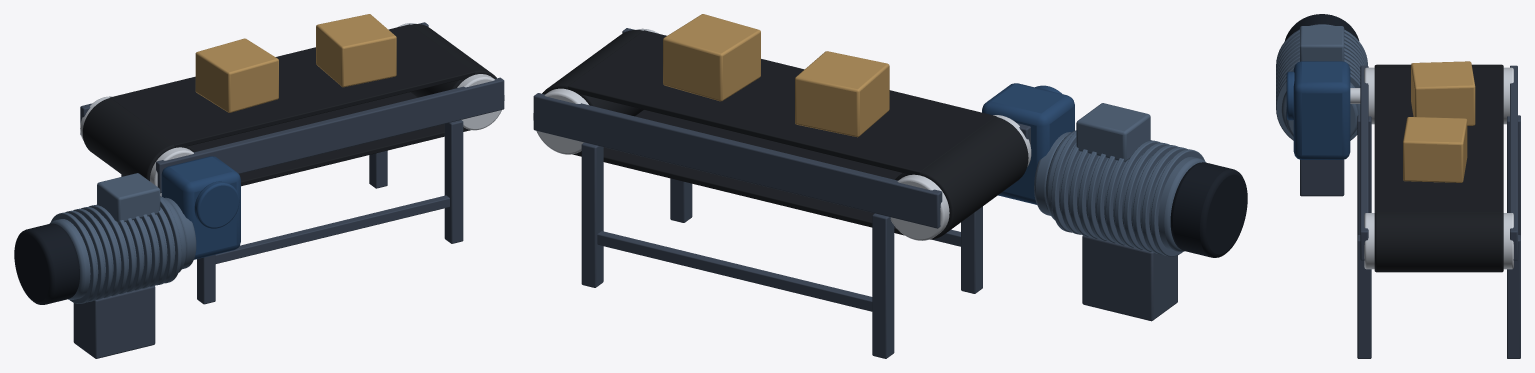
File: conveyor.glb
3 views of the same model, side by side, from view 1: azimuth 30°, elevation 25°; view 2: azimuth 150°, elevation 25°; view 3: azimuth 270°, elevation 25° (orthographic). The views are drawn at different scales.
Visible parts, largest first — view 1: M_BeltTop, M_RailF, M_MotorFins, M_Carton0, M_Carton1, M_MotorStand, M_BeltReturn, M_HeadWrap, M_FanCover, M_Gearbox, M_BraceF, M_MotorBody (+9 smaller); view 2: M_BeltTop, M_RailB, M_MotorFins, M_BeltReturn, M_Carton1, M_Carton0, M_HeadWrap, M_MotorStand, M_FanCover, M_Gearbox, M_BraceB, M_MotorBody (+9 smaller); view 3: M_BeltTop, M_TailWrap, M_Gearbox, M_Carton1, M_Carton0, M_MotorFins, M_MotorStand, M_TerminalBox, M_RailF, M_LegF1, M_LegB1, M_RailB (+9 smaller).
Boxes of the visible parts, left/top/right/bottom form: M_BeltTop: left=110, top=24, right=475, bottom=147; M_RailF: left=156, top=77, right=504, bottom=193; M_MotorFins: left=50, top=197, right=181, bottom=303; M_Carton0: left=195, top=38, right=278, bottom=112; M_Carton1: left=316, top=14, right=396, bottom=87; M_MotorStand: left=73, top=286, right=155, bottom=358; M_BeltReturn: left=190, top=92, right=470, bottom=186; M_HeadWrap: left=82, top=98, right=196, bottom=180; M_FanCover: left=14, top=223, right=79, bottom=304; M_Gearbox: left=161, top=156, right=240, bottom=259; M_BraceF: left=215, top=195, right=449, bottom=263; M_MotorBody: left=49, top=196, right=186, bottom=299; M_BeltTop: left=568, top=30, right=996, bottom=175; M_RailB: left=533, top=93, right=942, bottom=228; M_MotorFins: left=1051, top=131, right=1204, bottom=256; M_BeltReturn: left=572, top=110, right=904, bottom=235; M_Carton1: left=663, top=14, right=760, bottom=101; M_Carton0: left=795, top=51, right=889, bottom=137; M_HeadWrap: left=895, top=117, right=1028, bottom=239; M_MotorStand: left=1082, top=235, right=1177, bottom=321; M_FanCover: left=1170, top=162, right=1247, bottom=257; M_Gearbox: left=982, top=83, right=1074, bottom=204; M_BraceB: left=597, top=231, right=872, bottom=311; M_MotorBody: left=1045, top=130, right=1205, bottom=251; M_BeltTop: left=1374, top=67, right=1503, bottom=213; M_TailWrap: left=1374, top=212, right=1503, bottom=272; M_Gearbox: left=1293, top=61, right=1350, bottom=159; M_Carton1: left=1403, top=117, right=1467, bottom=182; M_Carton0: left=1411, top=61, right=1475, bottom=125; M_MotorFins: left=1276, top=24, right=1367, bottom=140; M_MotorStand: left=1300, top=159, right=1344, bottom=196; M_TerminalBox: left=1300, top=26, right=1344, bottom=61; M_RailF: left=1360, top=65, right=1368, bottom=260; M_LegF1: left=1357, top=235, right=1371, bottom=358; M_LegB1: left=1507, top=235, right=1520, bottom=358; M_RailB: left=1510, top=65, right=1517, bottom=260.
Size of the model in its own units: 2.81 by 1.07 by 1.21.
